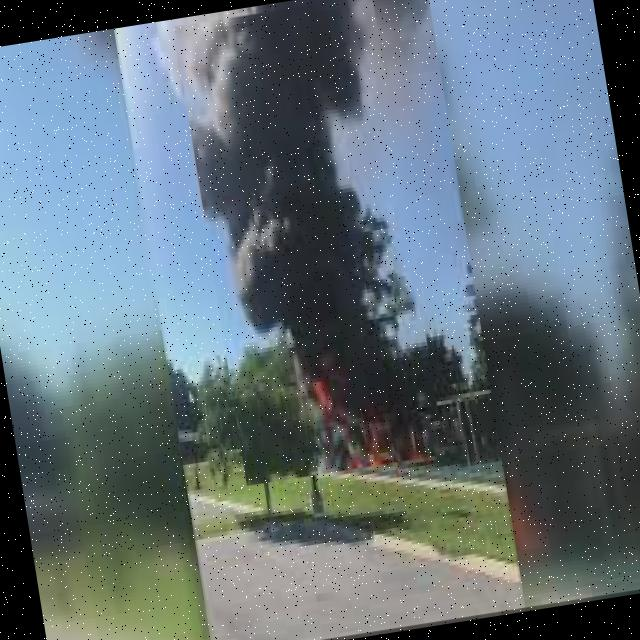fire: (174, 0, 446, 489)
